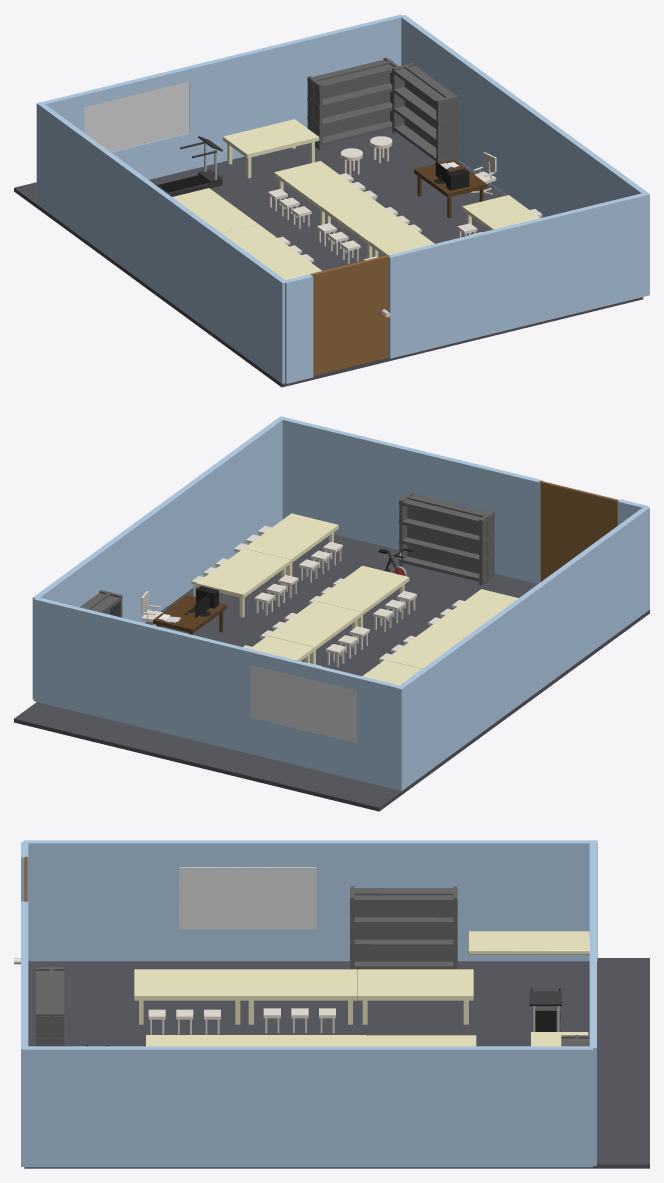
Rendered from lab.glb.
3 views of the same model, one above another, from view 1: azimuth 30°, elevation 25°; view 2: azimuth 150°, elevation 25°; view 3: azimuth 270°, elevation 25° (orthographic). The views are drawn at different scales.
Parts seen in each view (by area): view 1: South Wall Right, West Wall Upper, North Wall, Floor, East Wall, Door, Storage Rack 1, WindowCutter, Storage Rack 2, South Wall Left, Table 4, Table 5 (+8 smaller); view 2: North Wall, West Wall Upper, Floor, South Wall Right, East Wall, Storage Rack 4, WindowCutter, Door, Table 2, Table 4, Table 1, Table 3 (+6 smaller); view 3: East Wall, West Wall Upper, Floor, Storage Rack 3, Whiteboard Surface, Table 8, Table 7, Table 6, Rope Exp Table, Storage Rack 4, North Wall, South Wall Right (+5 smaller).
Boxes of the visible parts, x1=… form: South Wall Right: x1=388, y1=192, x2=649, y2=358; West Wall Upper: x1=36, y1=102, x2=286, y2=383; North Wall: x1=40, y1=14, x2=402, y2=179; Floor: x1=14, y1=129, x2=643, y2=387; East Wall: x1=400, y1=15, x2=648, y2=217; Door: x1=310, y1=255, x2=389, y2=375; Storage Rack 1: x1=307, y1=57, x2=398, y2=149; WindowCutter: x1=84, y1=81, x2=189, y2=151; Storage Rack 2: x1=392, y1=63, x2=459, y2=162; South Wall Left: x1=283, y1=274, x2=313, y2=383; Table 4: x1=321, y1=195, x2=414, y2=258; Table 5: x1=274, y1=161, x2=367, y2=225; North Wall: x1=34, y1=597, x2=401, y2=789; West Wall Upper: x1=396, y1=506, x2=649, y2=791; Floor: x1=14, y1=534, x2=649, y2=811; South Wall Right: x1=278, y1=416, x2=543, y2=583; East Wall: x1=32, y1=417, x2=283, y2=699; Storage Rack 4: x1=399, y1=491, x2=494, y2=585; WindowCutter: x1=250, y1=665, x2=356, y2=742; Door: x1=539, y1=481, x2=619, y2=581; Table 2: x1=196, y1=548, x2=290, y2=617; Table 4: x1=267, y1=601, x2=362, y2=664; Table 1: x1=244, y1=513, x2=338, y2=576; Table 3: x1=314, y1=565, x2=409, y2=627; East Wall: x1=24, y1=1046, x2=593, y2=1167; West Wall Upper: x1=23, y1=840, x2=597, y2=961; Floor: x1=24, y1=958, x2=649, y2=1168; Storage Rack 3: x1=350, y1=886, x2=457, y2=969; Whiteboard Surface: x1=179, y1=867, x2=316, y2=929; Table 8: x1=358, y1=969, x2=473, y2=1024; Table 7: x1=244, y1=969, x2=357, y2=1024; Table 6: x1=134, y1=969, x2=244, y2=1024; Rope Exp Table: x1=468, y1=931, x2=589, y2=954; Storage Rack 4: x1=36, y1=967, x2=64, y2=1046; North Wall: x1=589, y1=842, x2=596, y2=1165; South Wall Right: x1=21, y1=901, x2=28, y2=1166.
Bounding box in the file's own units: 12.18 × 3.35 × 15.65.
